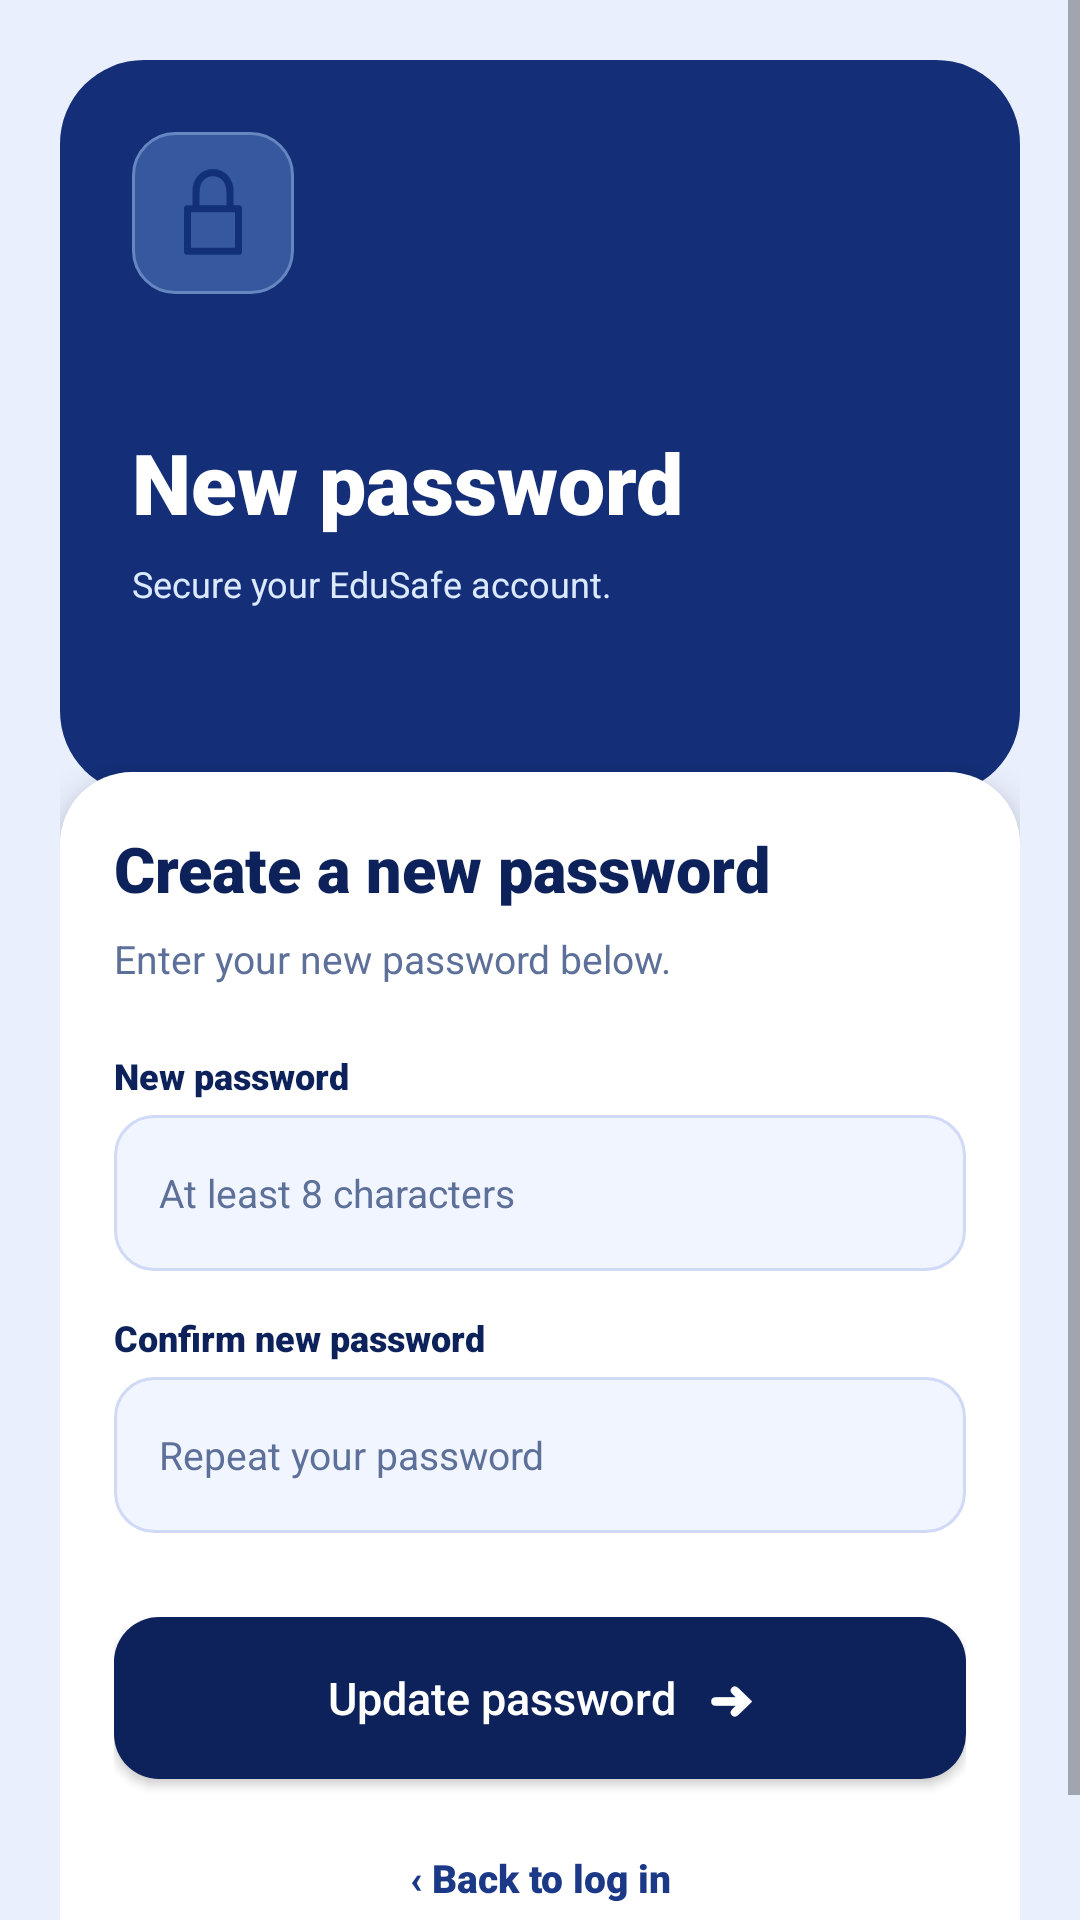

Screen size 1080×1920. Icon name, then its center in pixels as (x=x, y=y):
auth lock: (x=213, y=213)
